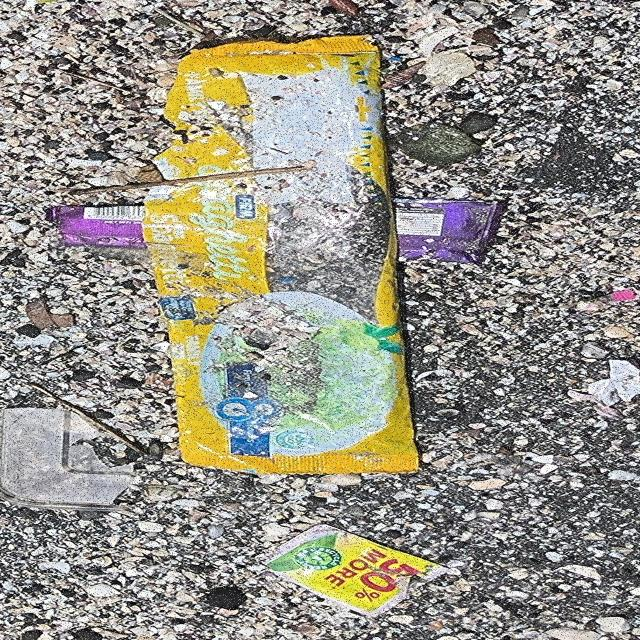plastic_waste: (141, 35, 418, 476), (262, 526, 453, 618)
